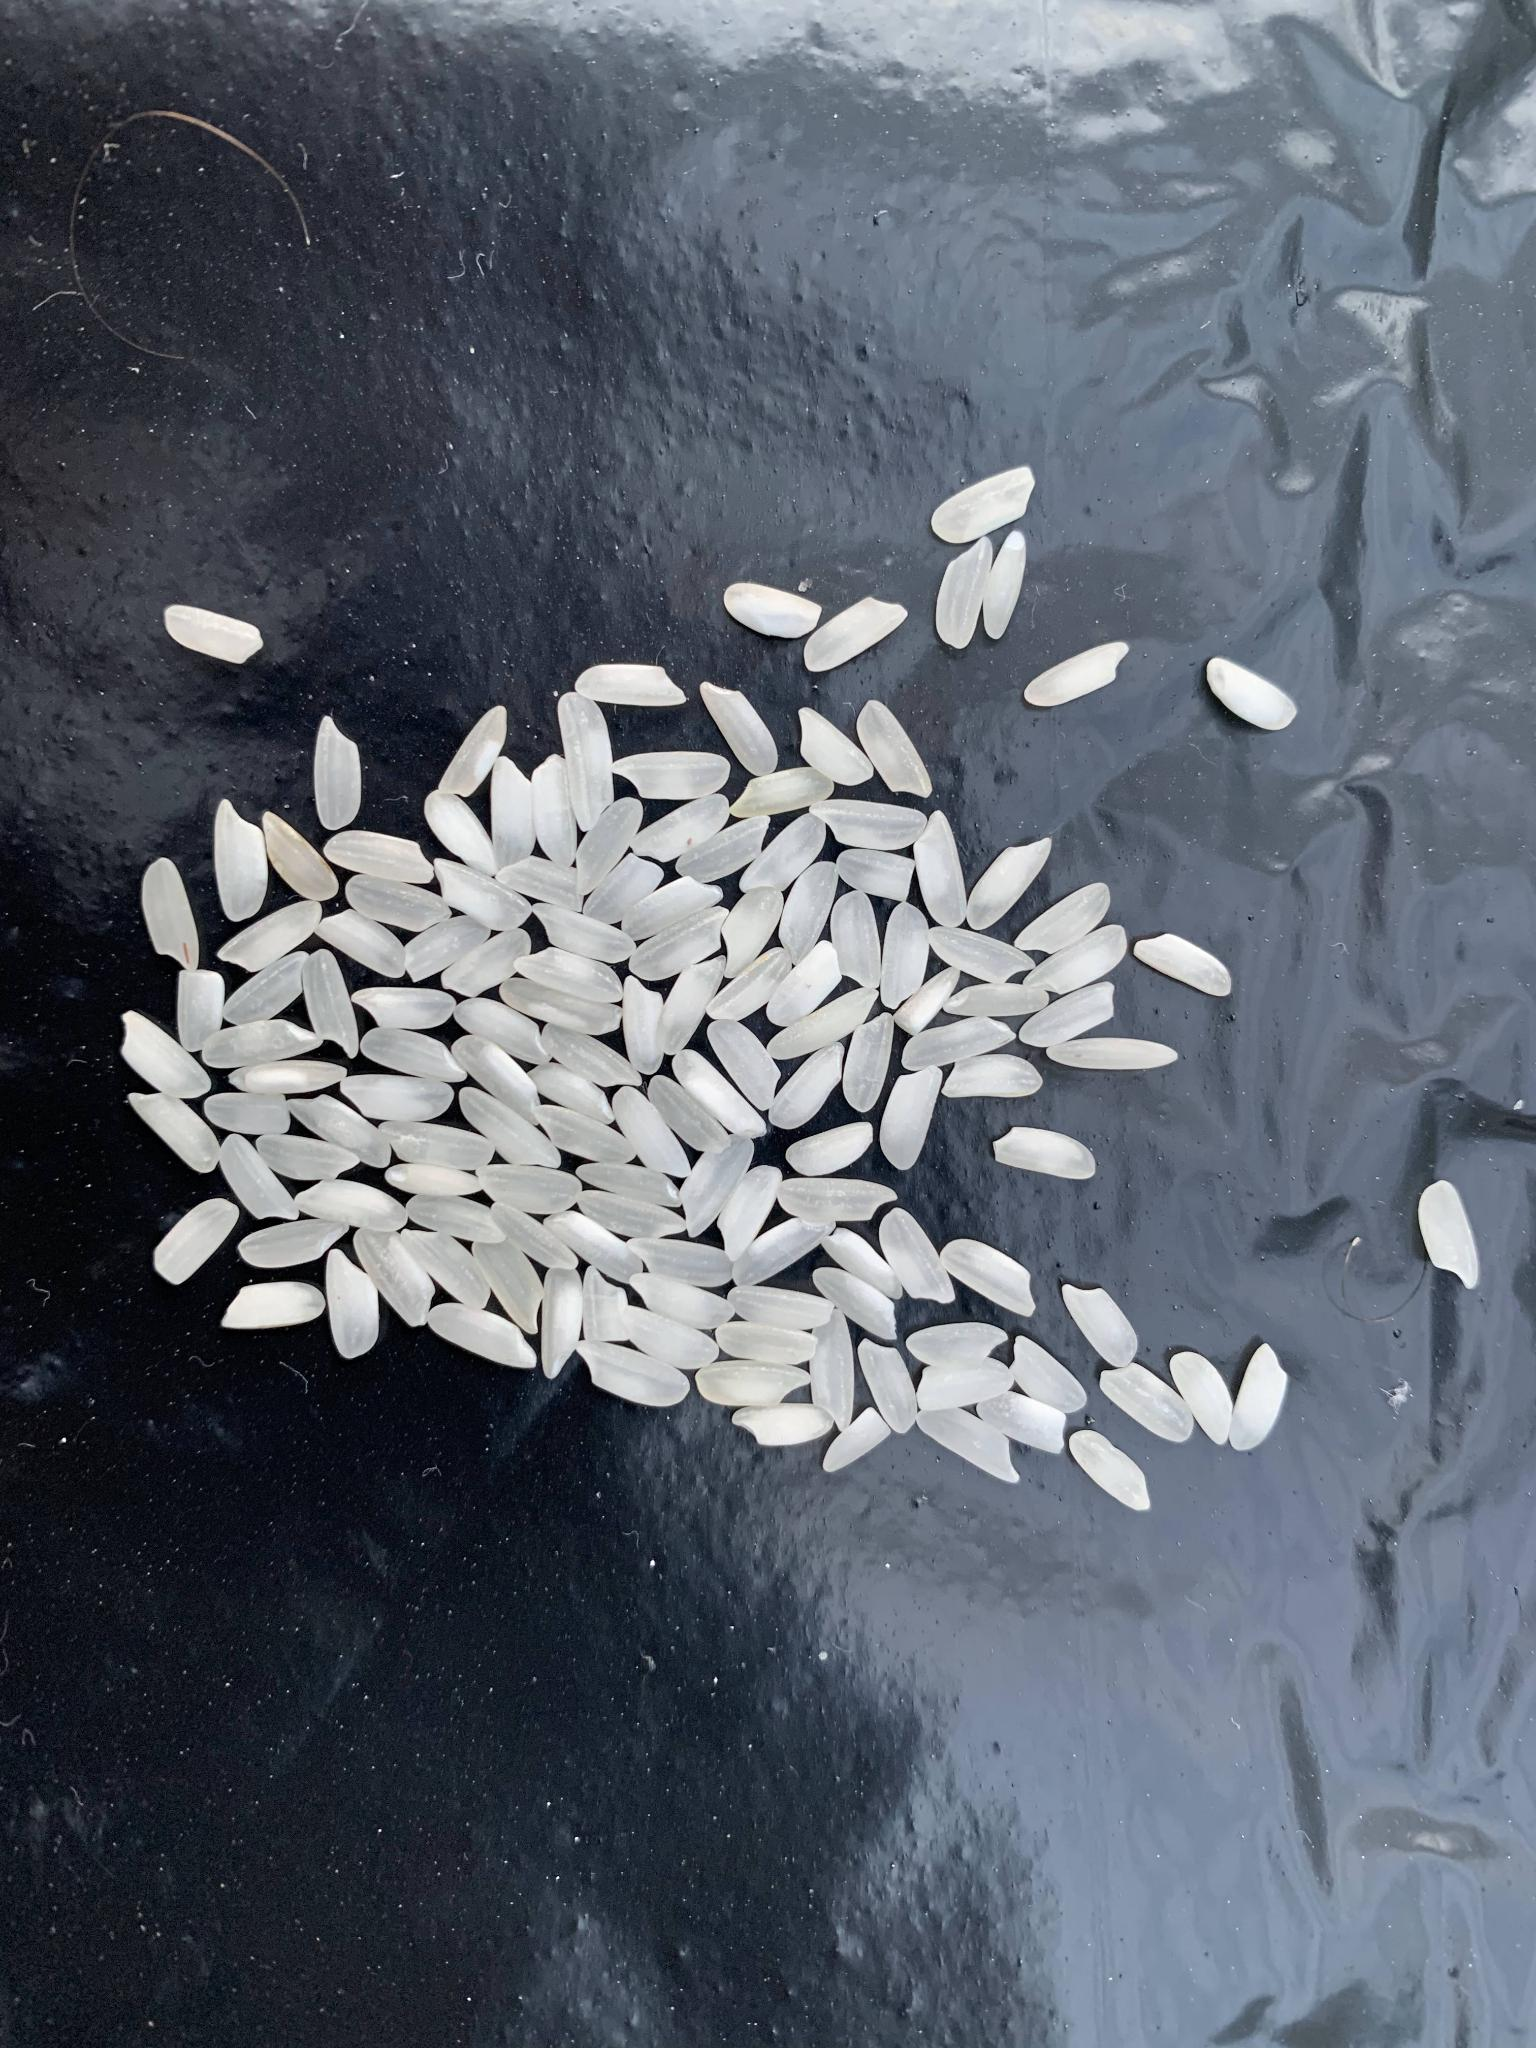rice: (458, 1087, 561, 1169), (670, 1050, 766, 1137), (929, 464, 1036, 543), (557, 692, 615, 834), (453, 1034, 542, 1126), (966, 837, 1054, 930), (353, 1229, 436, 1327), (119, 1011, 211, 1098), (770, 987, 879, 1059), (855, 700, 933, 801), (578, 1338, 691, 1408), (803, 598, 908, 672), (286, 1095, 392, 1168), (918, 1408, 1020, 1484), (699, 681, 779, 776), (1099, 1363, 1194, 1443), (879, 1206, 957, 1305), (218, 901, 323, 974), (941, 1238, 1036, 1317), (153, 1198, 239, 1285), (629, 906, 729, 980), (127, 1092, 219, 1172), (684, 1135, 755, 1238), (737, 813, 828, 893), (402, 1229, 490, 1309), (431, 1303, 539, 1369), (500, 977, 623, 1035), (544, 1213, 644, 1284), (733, 1218, 836, 1285), (1025, 926, 1128, 993), (471, 1235, 539, 1338), (219, 1134, 298, 1221), (1015, 884, 1112, 955), (261, 813, 339, 901), (1207, 656, 1297, 732), (615, 1085, 691, 1176), (629, 793, 729, 861), (436, 860, 531, 930), (770, 1042, 845, 1130), (1418, 1180, 1480, 1290), (674, 814, 771, 884), (437, 705, 508, 798), (1133, 932, 1233, 998), (542, 1022, 642, 1089), (812, 1266, 899, 1342), (766, 940, 842, 1027), (707, 1021, 781, 1109), (223, 951, 311, 1026), (662, 955, 726, 1056), (623, 877, 724, 942), (1023, 643, 1129, 705), (881, 1064, 942, 1171), (716, 1164, 783, 1263), (578, 798, 644, 897), (1071, 1429, 1152, 1509), (649, 1074, 733, 1151), (532, 901, 637, 963), (1020, 980, 1117, 1047), (142, 858, 198, 971), (928, 924, 1037, 982), (424, 789, 495, 877), (902, 1018, 1016, 1072), (1229, 1342, 1288, 1450), (442, 929, 532, 998), (215, 800, 266, 921), (457, 998, 553, 1063), (1062, 1285, 1137, 1367), (315, 910, 407, 977), (936, 539, 992, 648), (623, 1305, 721, 1367), (345, 876, 452, 934), (913, 811, 966, 927), (800, 708, 878, 787), (303, 948, 358, 1059), (324, 830, 436, 885), (515, 947, 623, 1003), (1170, 1351, 1234, 1445), (534, 1106, 637, 1164), (812, 800, 928, 851), (779, 861, 837, 964), (582, 853, 665, 926), (405, 914, 490, 984), (705, 948, 791, 1018), (628, 1274, 736, 1329), (492, 1203, 579, 1271), (1010, 1335, 1086, 1413), (723, 885, 784, 980), (295, 1179, 408, 1230), (379, 1121, 495, 1171), (165, 605, 261, 664), (857, 1337, 916, 1434), (203, 1019, 323, 1068), (360, 1027, 468, 1080), (729, 766, 836, 819), (328, 1245, 378, 1356), (237, 1218, 349, 1268), (992, 1127, 1096, 1180), (824, 1229, 904, 1298), (778, 1177, 899, 1222), (315, 714, 361, 830), (615, 751, 731, 798), (579, 1190, 687, 1240), (528, 1064, 615, 1126), (340, 1076, 457, 1121), (723, 584, 821, 637), (841, 1013, 892, 1113), (629, 1238, 734, 1287), (219, 1284, 328, 1330), (786, 1121, 874, 1177), (494, 856, 582, 913), (831, 892, 883, 989), (532, 755, 576, 869), (881, 903, 928, 1009), (574, 663, 687, 706), (478, 1166, 582, 1213), (918, 1358, 1012, 1409), (253, 1135, 360, 1180), (695, 1361, 810, 1403), (494, 756, 536, 871), (984, 531, 1028, 640), (541, 1268, 582, 1380), (728, 1285, 834, 1329), (576, 1163, 682, 1206), (907, 1322, 1008, 1367), (407, 1197, 508, 1242), (823, 1408, 894, 1472), (894, 968, 958, 1039), (716, 1321, 820, 1364), (1046, 1039, 1179, 1071), (942, 1055, 1044, 1097), (733, 1405, 836, 1445), (352, 989, 455, 1029), (837, 848, 913, 903), (623, 976, 665, 1074), (942, 984, 1050, 1018), (179, 971, 224, 1051), (203, 1093, 290, 1134), (582, 1268, 628, 1343), (386, 1164, 486, 1197)
